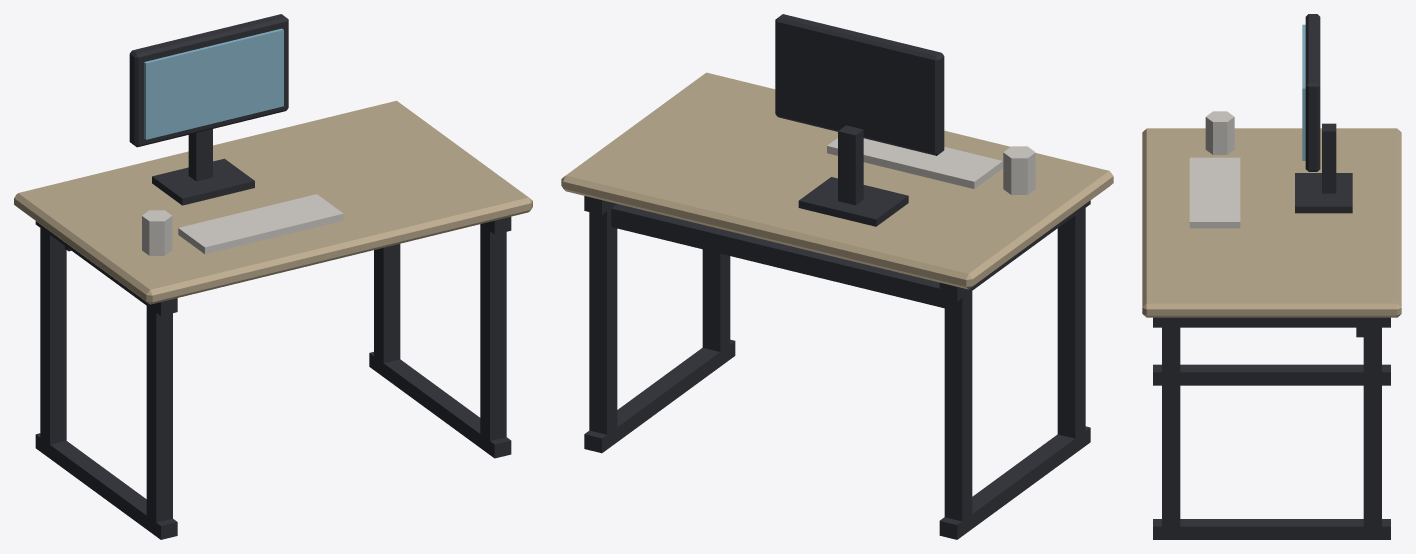
File: office-desk-04.glb
The picture shows the model from 3 angles, left to right: view 1: azimuth 30°, elevation 25°; view 2: azimuth 150°, elevation 25°; view 3: azimuth 270°, elevation 25°; orthographic projection. The views are drawn at different scales.
Visible parts, largest first — view 1: office_desk_04; view 2: office_desk_04; view 3: office_desk_04.
Boxes of the visible parts, x1=… form: office_desk_04: x1=14, y1=14, x2=532, y2=539; office_desk_04: x1=561, y1=14, x2=1113, y2=539; office_desk_04: x1=1142, y1=14, x2=1401, y2=539.
Bounding box in the file's own units: 1.17 × 1.19 × 0.717.
